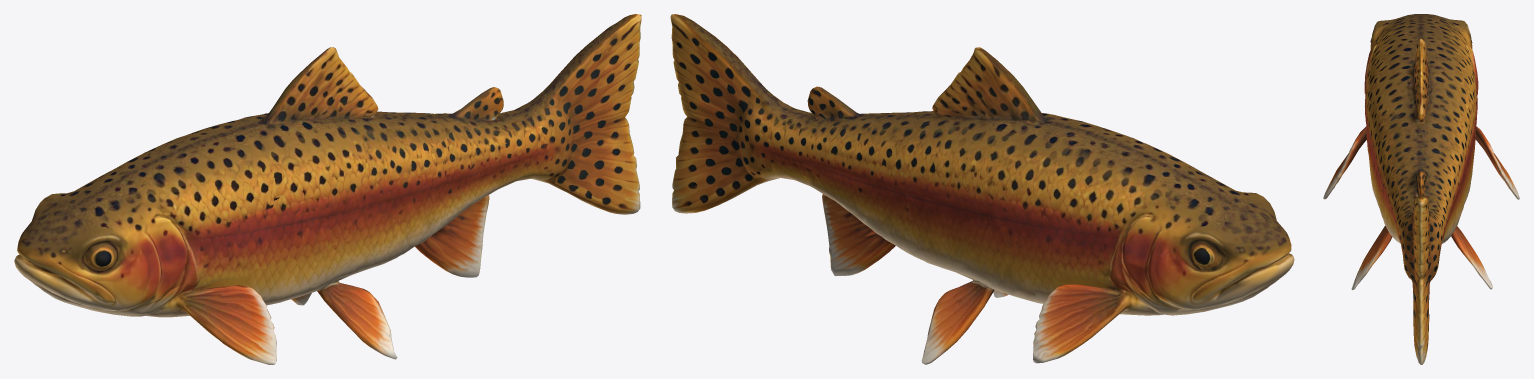
Rendered from fish-zolforel.glb.
3 renders of one model, left to right at view 1: azimuth 30°, elevation 25°; view 2: azimuth 150°, elevation 25°; view 3: azimuth 270°, elevation 25°, orthographic. The views are drawn at different scales.
Parts seen in each view (by area): view 1: tripo_node_58ace234-3b7b-460c-abca-66bb89b8293e; view 2: tripo_node_58ace234-3b7b-460c-abca-66bb89b8293e; view 3: tripo_node_58ace234-3b7b-460c-abca-66bb89b8293e.
Part boxes in pixels (bbox=[...]): tripo_node_58ace234-3b7b-460c-abca-66bb89b8293e: bbox=[14, 14, 641, 364]; tripo_node_58ace234-3b7b-460c-abca-66bb89b8293e: bbox=[670, 14, 1294, 364]; tripo_node_58ace234-3b7b-460c-abca-66bb89b8293e: bbox=[1323, 14, 1519, 364].
Size of the model in its own units: 1 by 0.4468 by 0.3251.
1 material, 1 textured.
